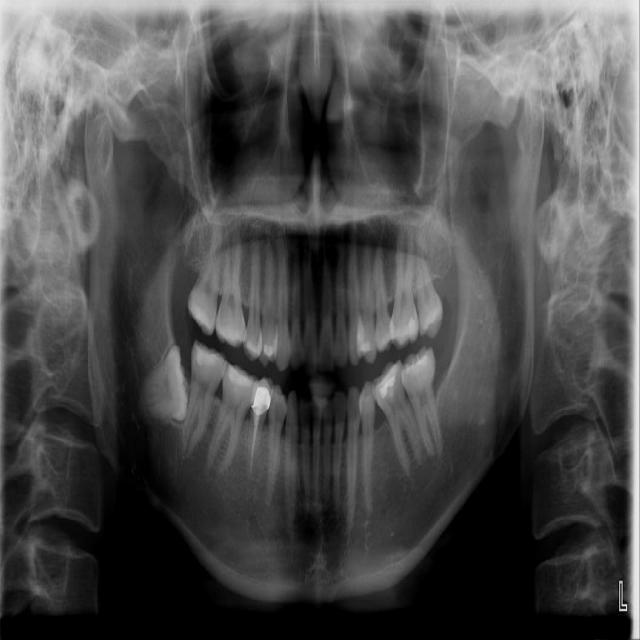Crown: (250, 376, 273, 417)
Filling: (195, 347, 224, 374), (375, 369, 400, 400), (227, 366, 253, 391)
Root Canal Treatment: (251, 414, 263, 467)
impacted tooth: (134, 348, 191, 420)
